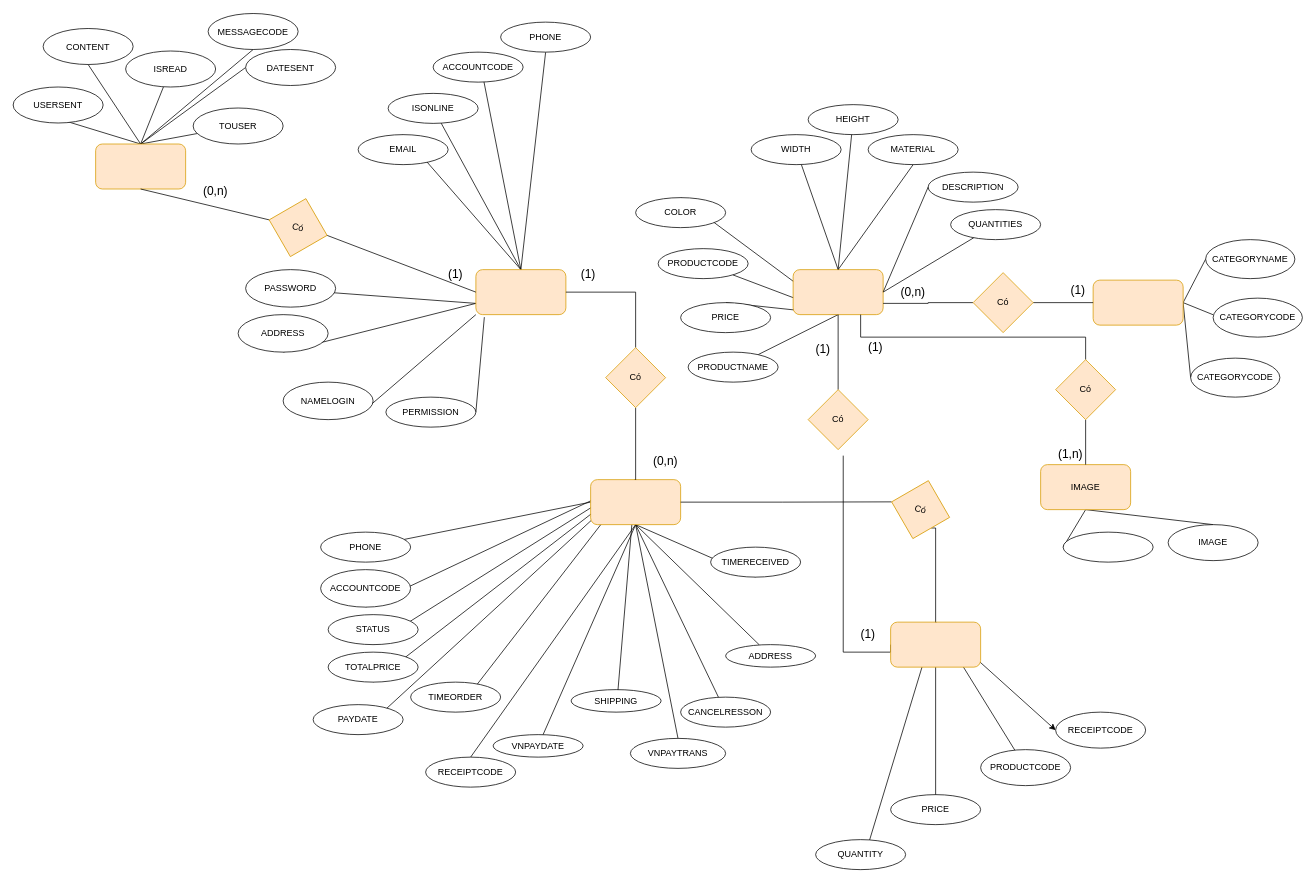
Image size: 1316x884. Some labels were removed from this diagram. Each missing label, with the centre of its shape:
"ACCOUNT" belongs at pixel 520 292.
"CATEGORY" belongs at pixel 1137 302.
"IMAGECODE" belongs at pixel 1107 546.
"MESSAGE" belongs at pixel 140 166.
"PRODUCT" belongs at pixel 837 292.
"RECEIPT" belongs at pixel 635 502.
"RECEIPT DETAIL" belongs at pixel 935 644.
